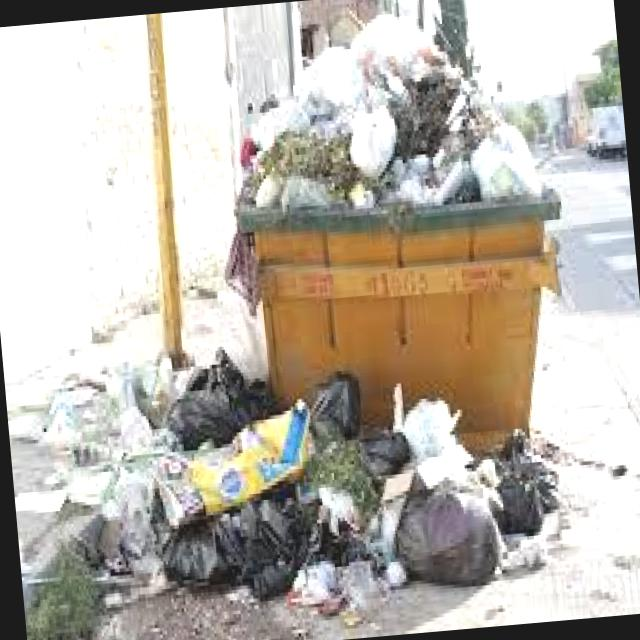garbage: (92, 0, 602, 628)
